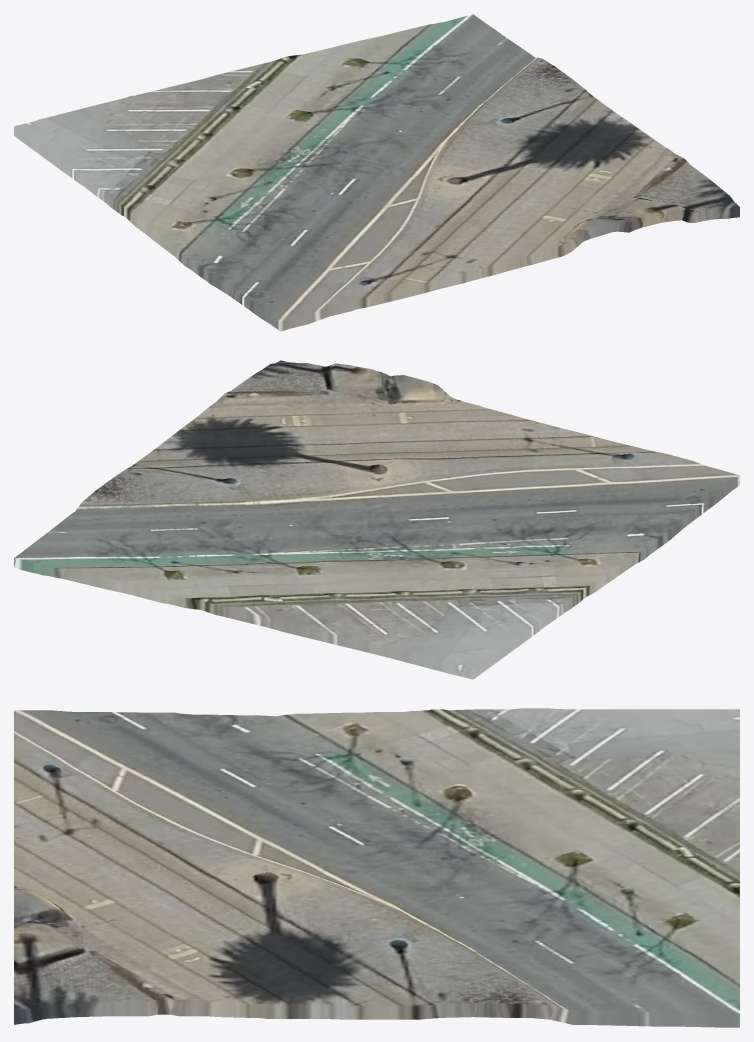
Rendered from z20-167777-405205-h0-yup-uvflip-v3-world.glb.
3 views of the same model, one above another, from view 1: azimuth 30°, elevation 25°; view 2: azimuth 150°, elevation 25°; view 3: azimuth 270°, elevation 25° (orthographic). The views are drawn at different scales.
Bounding box in the file's own units: 30.16 × 2.04 × 30.32.
1 material, 1 textured.
